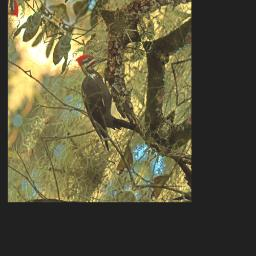Woodpecker: (49, 41, 145, 154)
